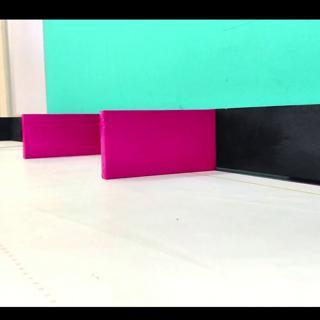xparking: (103, 112, 215, 173), (22, 115, 97, 156)
